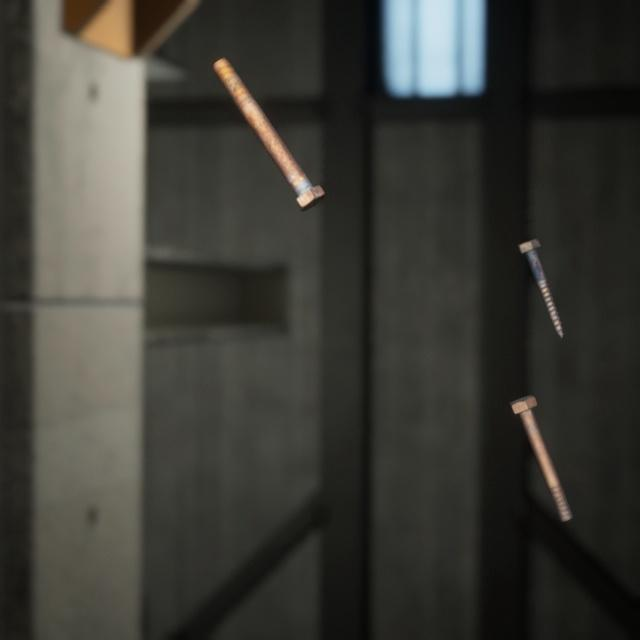bolt: (208, 40, 329, 202), (503, 370, 577, 505), (512, 217, 568, 325)
